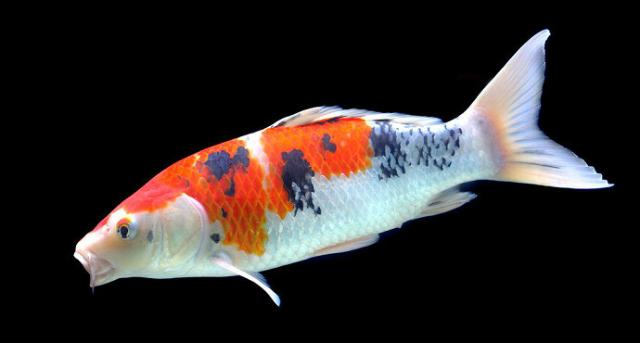Mulut: (58, 234, 124, 306)
Sirip Anal: (404, 180, 478, 234)
Sirip Dada: (204, 242, 294, 322)
Sirip Ekor: (463, 27, 615, 194)
Sirip Perut: (302, 226, 393, 268)
Sirip Punggung: (258, 91, 456, 149)
